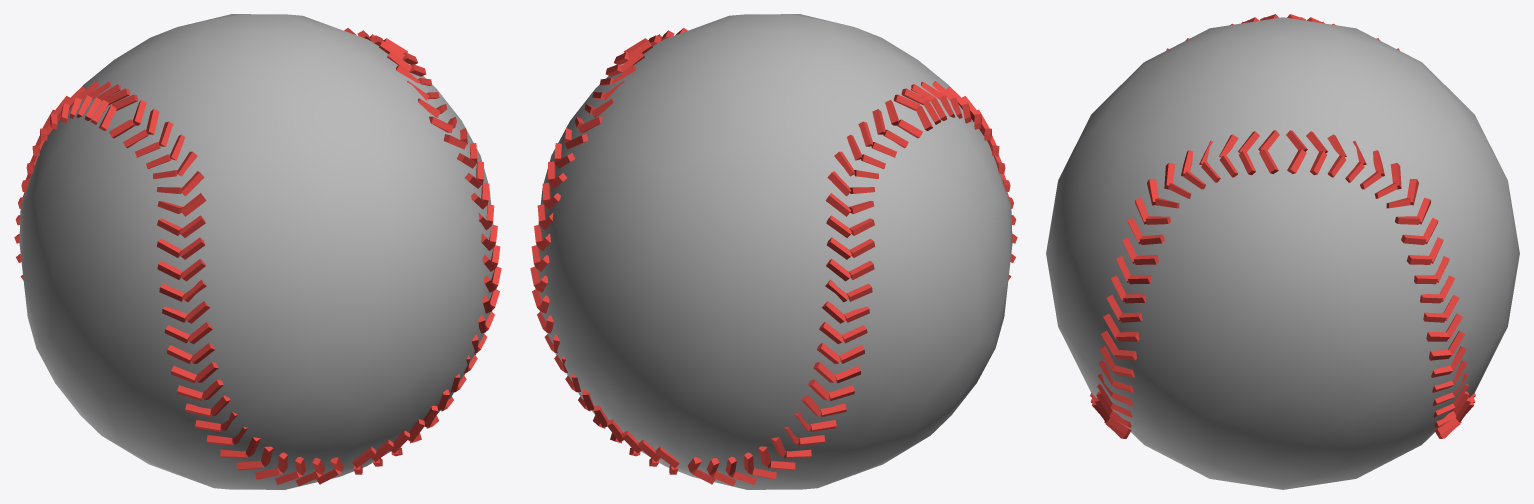
The model's file is 2Baseball.fbx.
3 views of the same model, side by side, from view 1: azimuth 30°, elevation 25°; view 2: azimuth 150°, elevation 25°; view 3: azimuth 270°, elevation 25° (orthographic).
Parts seen in each view (by area): view 1: Baseball, Stitches 2, Stitches 1; view 2: Baseball, Stitches 2, Stitches 1; view 3: Baseball, Stitches 1.
Boxes of the visible parts, x1,y1,x2,y2 form: Baseball: (19, 14, 496, 489); Stitches 2: (14, 81, 344, 486); Stitches 1: (344, 28, 501, 474); Baseball: (535, 14, 1012, 489); Stitches 2: (687, 81, 1017, 486); Stitches 1: (530, 28, 687, 474); Baseball: (1046, 17, 1519, 489); Stitches 1: (1090, 130, 1475, 438).
Bounding box in the file's own units: 1.92 × 1.94 × 1.93.
